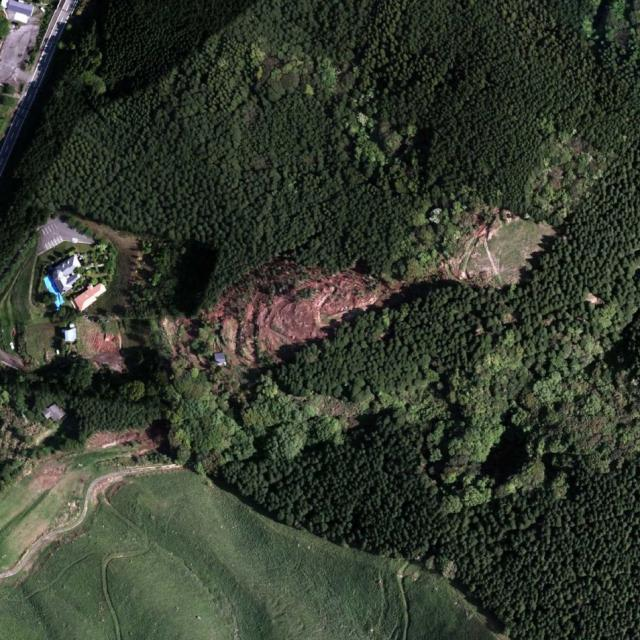landslide: (161, 258, 401, 370)
